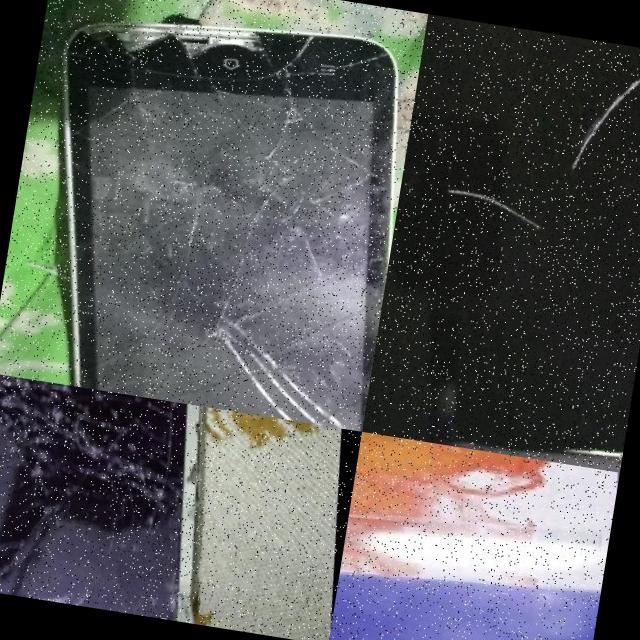scratch: (439, 156, 563, 261), (566, 48, 640, 196)
screen crack: (33, 0, 422, 430), (0, 371, 245, 564)
